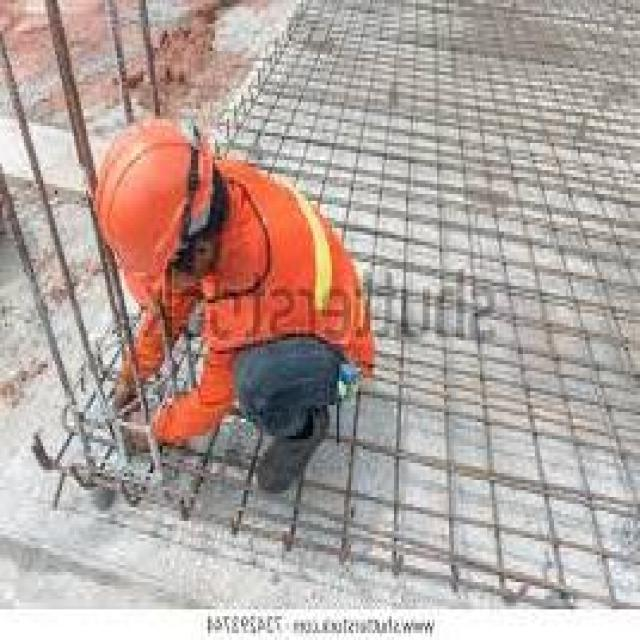Reflective-Jacket: (189, 150, 375, 384)
Safety-Helmet: (79, 102, 215, 317)
